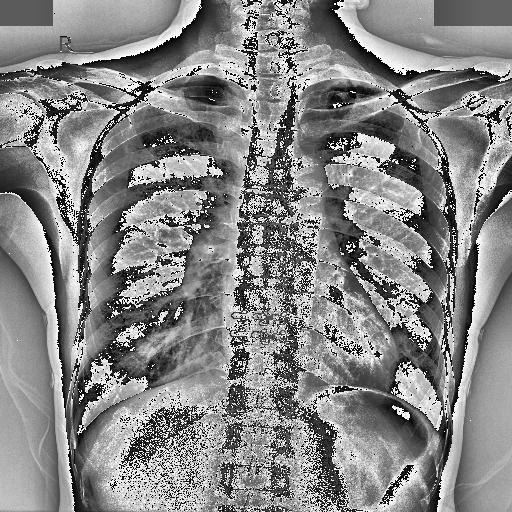11- Pleural thickening: (298, 68, 391, 90), (301, 74, 381, 90), (154, 76, 238, 90), (322, 80, 381, 88)
